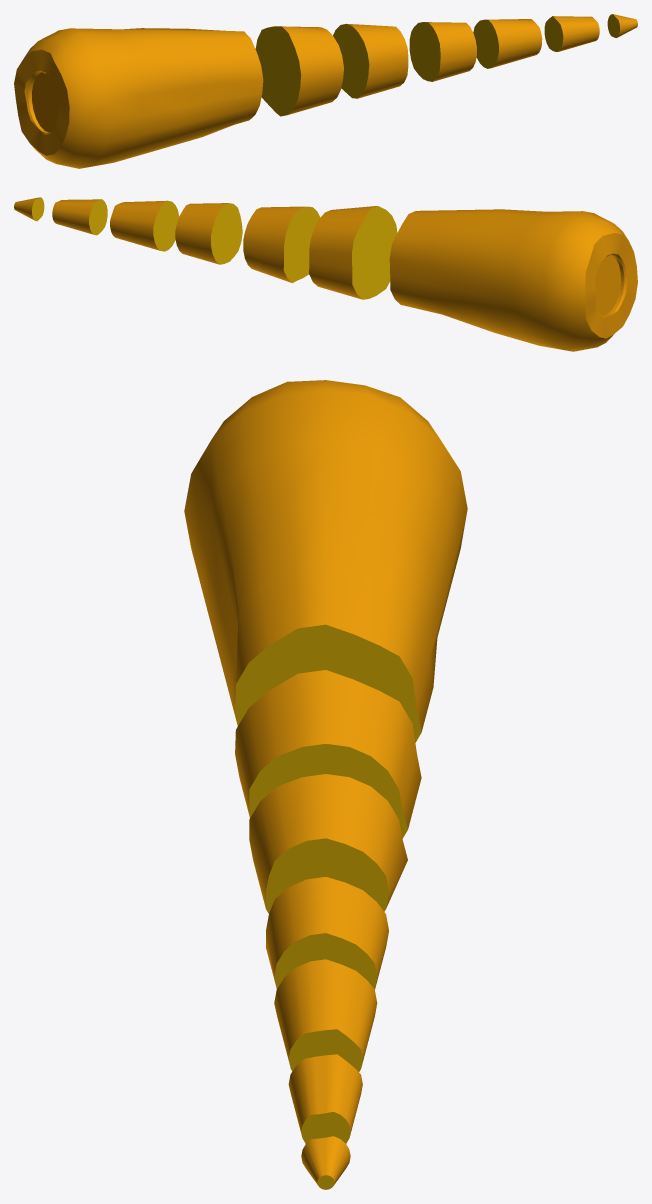
File: mesh_Carrot_Stage3.fbx
The picture shows the model from 3 angles, top to bottom: view 1: azimuth 30°, elevation 25°; view 2: azimuth 150°, elevation 25°; view 3: azimuth 270°, elevation 25°; orthographic projection. The views are drawn at different scales.
Parts seen in each view (by area): view 1: mesh_carrot_stage3; view 2: mesh_carrot_stage3; view 3: mesh_carrot_stage3.
Boxes of the visible parts, left/top/right/bottom form: mesh_carrot_stage3: left=14, top=14, right=637, bottom=168; mesh_carrot_stage3: left=14, top=197, right=637, bottom=351; mesh_carrot_stage3: left=184, top=380, right=467, bottom=1189.
Bounding box in the file's own units: 0.2491 × 0.0532 × 0.051.
